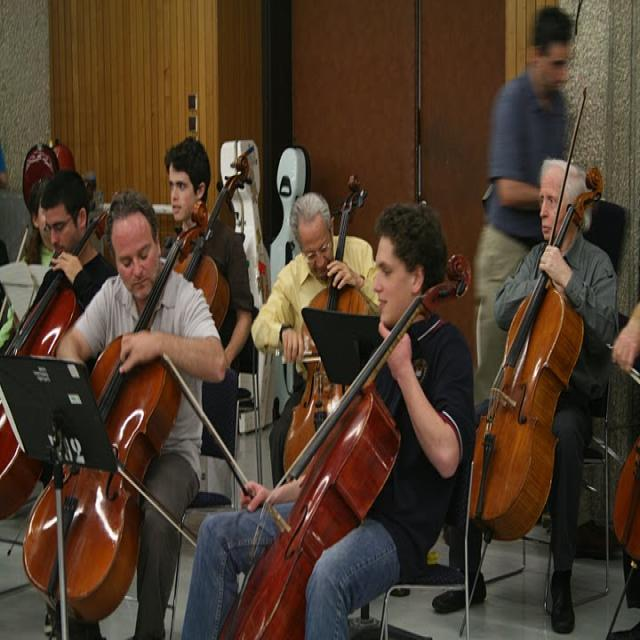cello: (214, 250, 471, 640), (23, 202, 215, 635), (465, 162, 604, 552), (0, 206, 114, 517), (280, 176, 369, 494), (175, 147, 257, 376), (605, 338, 640, 577)
